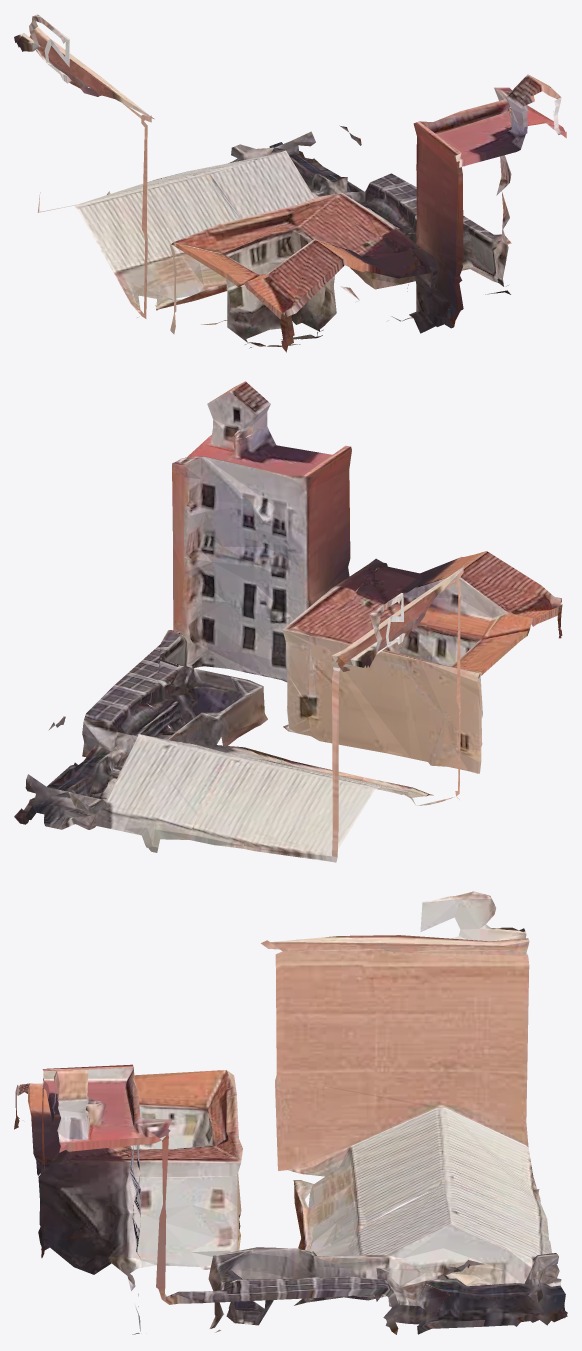
The picture shows the model from 3 angles, top to bottom: view 1: azimuth 30°, elevation 25°; view 2: azimuth 150°, elevation 25°; view 3: azimuth 270°, elevation 25°; orthographic projection. The views are drawn at different scales.
Visible parts, largest first — view 1: Mesh_0; view 2: Mesh_0; view 3: Mesh_0.
Part boxes in pixels (x1=…): Mesh_0: x1=14, y1=14, x2=566, y2=352; Mesh_0: x1=14, y1=381, x2=562, y2=862; Mesh_0: x1=14, y1=891, x2=567, y2=1334.
Bounding box in the file's own units: 33.33 × 22.71 × 41.46.
Materials: 2 (2 with a texture image).
